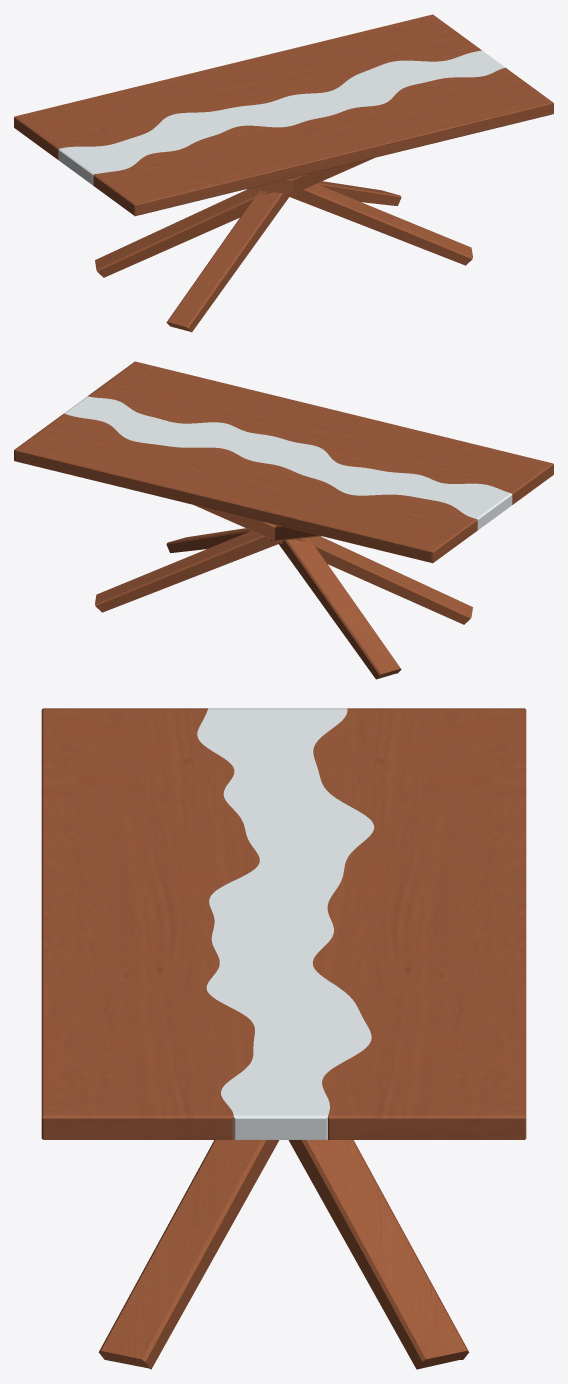
The model's file is rectangular-cherry-epoxy-clear.glb.
The picture shows the model from 3 angles, top to bottom: view 1: azimuth 30°, elevation 25°; view 2: azimuth 150°, elevation 25°; view 3: azimuth 270°, elevation 25°; orthographic projection. The views are drawn at different scales.
Visible parts, largest first — view 1: Wood_Rectangular_EpoxyFar, Wood_Rectangular_EpoxyNear, Base_target, Resin_Rectangular; view 2: Wood_Rectangular_EpoxyNear, Wood_Rectangular_EpoxyFar, Base_target, Resin_Rectangular; view 3: Wood_Rectangular_EpoxyNear, Wood_Rectangular_EpoxyFar, Resin_Rectangular, Base_target.
Part boxes in pixels (box(x1,y1,x2,y2)): Wood_Rectangular_EpoxyFar: box(93, 67, 553, 216); Wood_Rectangular_EpoxyNear: box(14, 14, 481, 159); Base_target: box(95, 158, 472, 332); Resin_Rectangular: box(58, 50, 504, 185); Wood_Rectangular_EpoxyNear: box(14, 413, 477, 563); Wood_Rectangular_EpoxyFar: box(88, 361, 553, 504); Base_target: box(95, 505, 472, 679); Resin_Rectangular: box(64, 396, 512, 529); Wood_Rectangular_EpoxyNear: box(312, 708, 526, 1139); Wood_Rectangular_EpoxyFar: box(41, 708, 259, 1139); Resin_Rectangular: box(197, 708, 374, 1139); Base_target: box(98, 1140, 469, 1369).
Size of the model in its own units: 2.13 by 0.762 by 1.07.
2 materials, 1 textured.
